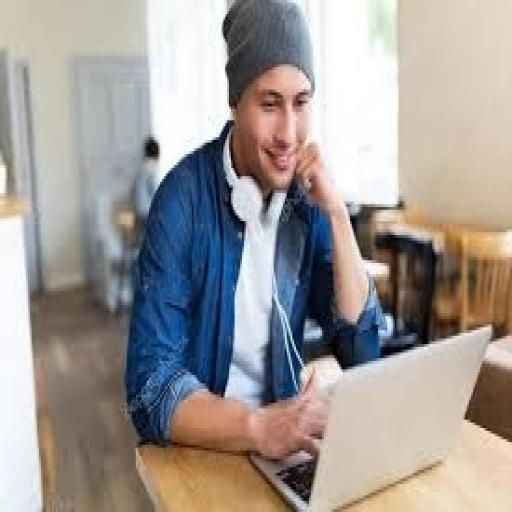using_laptop: (246, 319, 493, 509)
